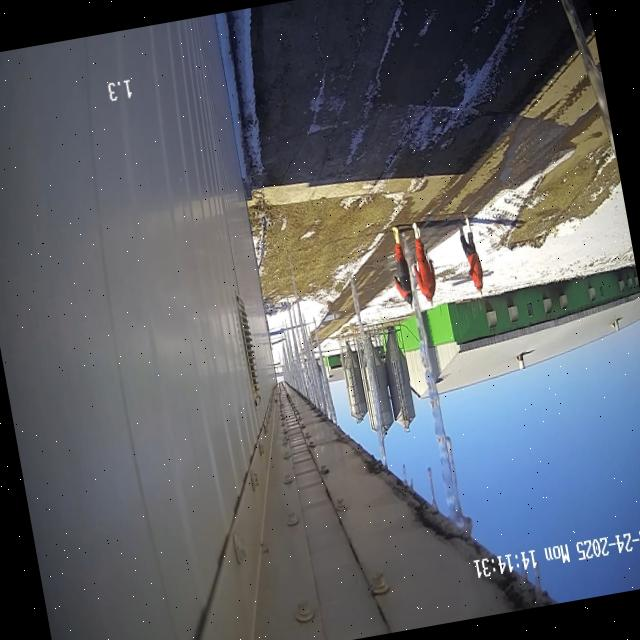Red uniform: (412, 223, 436, 302), (459, 217, 482, 293), (392, 226, 413, 305)
